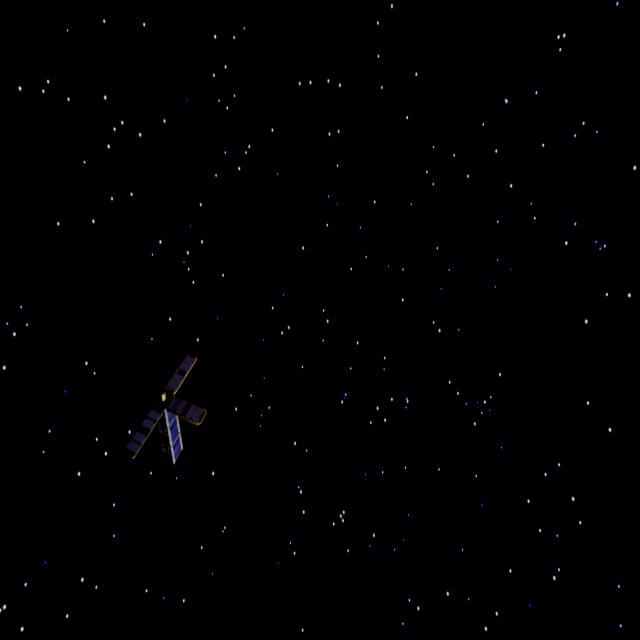satellite: (120, 348, 222, 484)
